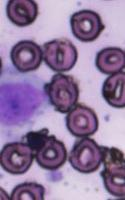L: (0, 75, 52, 129)
